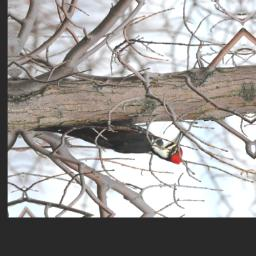Woodpecker: (24, 114, 189, 170)
